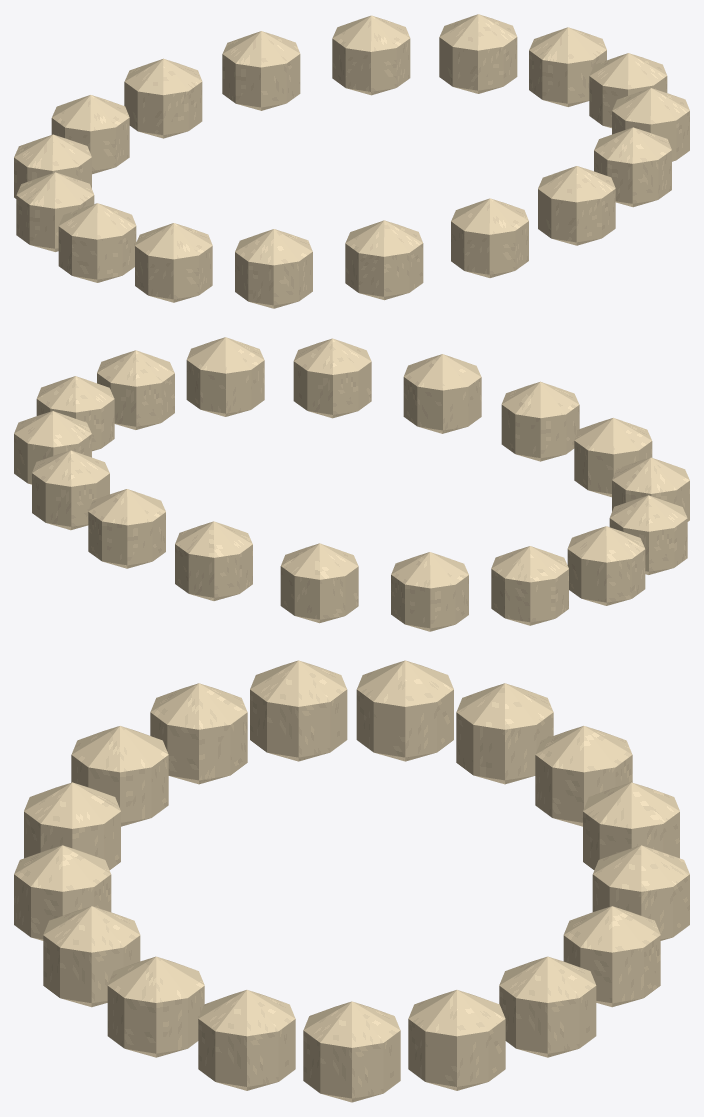
File: pearl_collar.glb
The picture shows the model from 3 angles, top to bottom: view 1: azimuth 30°, elevation 25°; view 2: azimuth 150°, elevation 25°; view 3: azimuth 270°, elevation 25°; orthographic projection. The views are drawn at different scales.
Visible parts, largest first — view 1: block_strung bead (×17); view 2: block_strung bead (×17); view 3: block_strung bead (×17).
Boxes of the visible parts, x1=… form: block_strung bead (×17): x1=14, y1=14, x2=689, y2=308; block_strung bead (×17): x1=14, y1=337, x2=689, y2=631; block_strung bead (×17): x1=14, y1=660, x2=689, y2=1102.
Size of the model in its own units: 0.1626 by 0.0201 by 0.1215.
Materials: 1 (1 with a texture image).
